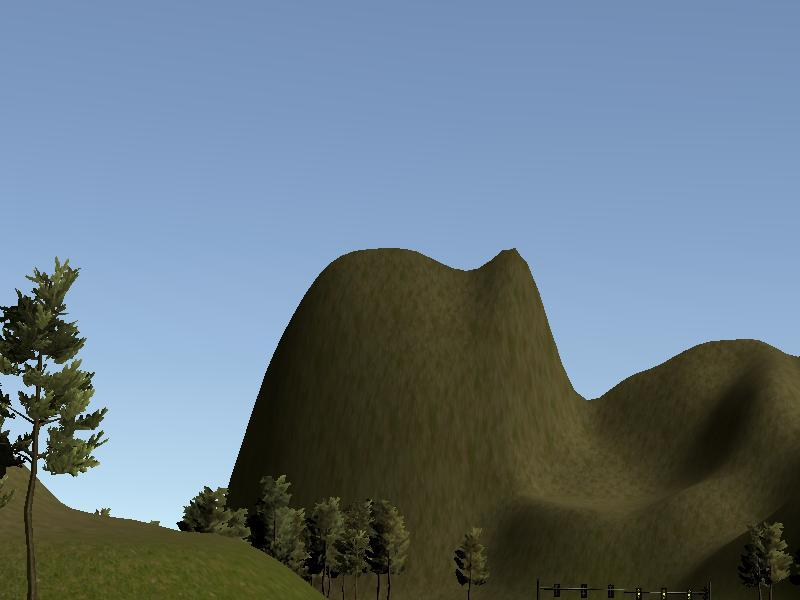Yellow: (635, 587, 643, 600), (660, 586, 666, 600), (686, 590, 692, 600)
